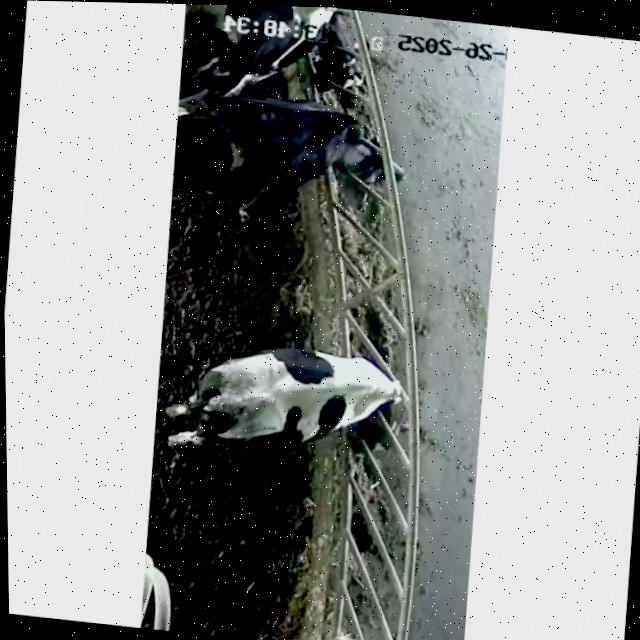eat: (293, 328, 456, 448), (258, 92, 443, 192), (219, 5, 408, 93)
